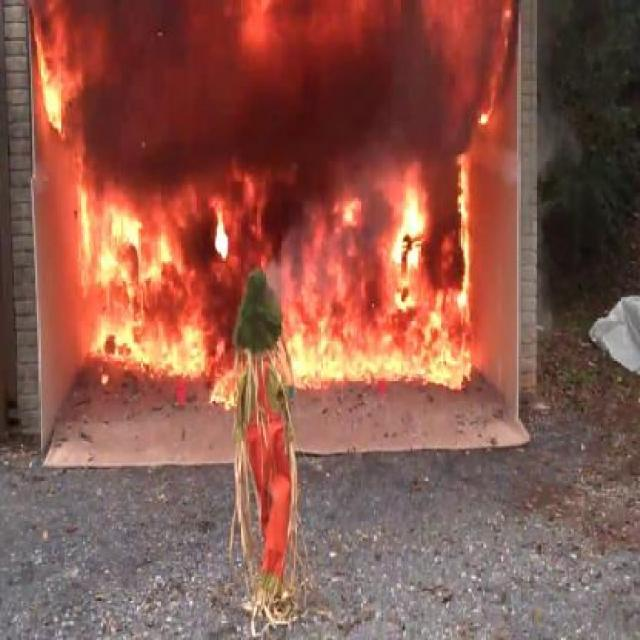fire: (146, 240, 480, 405), (26, 48, 168, 364)
smoke: (188, 26, 524, 202)
